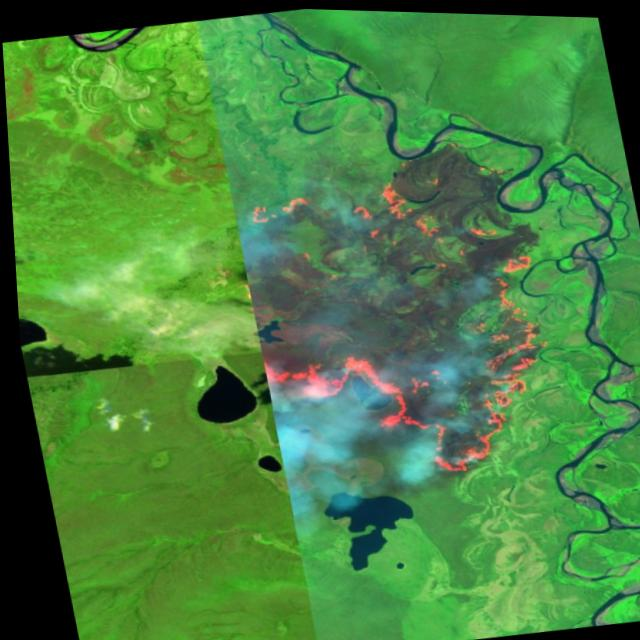fire: (221, 144, 567, 506)
